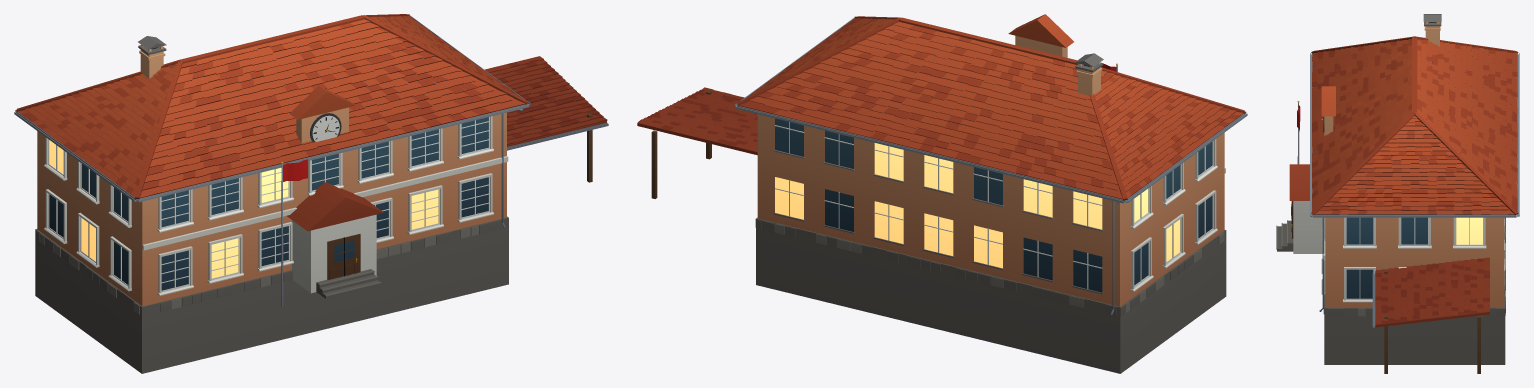
File: School.fbx
3 views of the same model, side by side, from view 1: azimuth 30°, elevation 25°; view 2: azimuth 150°, elevation 25°; view 3: azimuth 270°, elevation 25° (orthographic). The views are drawn at different scales.
Parts seen in each view (by area): view 1: School_LOD0; view 2: School_LOD0; view 3: School_LOD0.
Boxes of the visible parts, x1,y1,x2,y2 form: School_LOD0: (14, 14, 608, 373); School_LOD0: (637, 14, 1247, 373); School_LOD0: (1276, 14, 1519, 373).
Size of what is drawn, in the model's own units: 27.96 by 14.12 by 13.6.
Materials: 1 (1 with a texture image).
